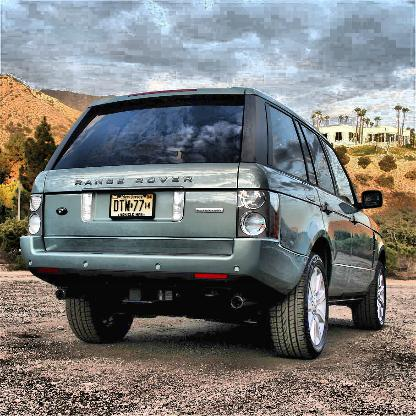Land Rover Range Rover SUV 2012: (17, 83, 392, 363)
